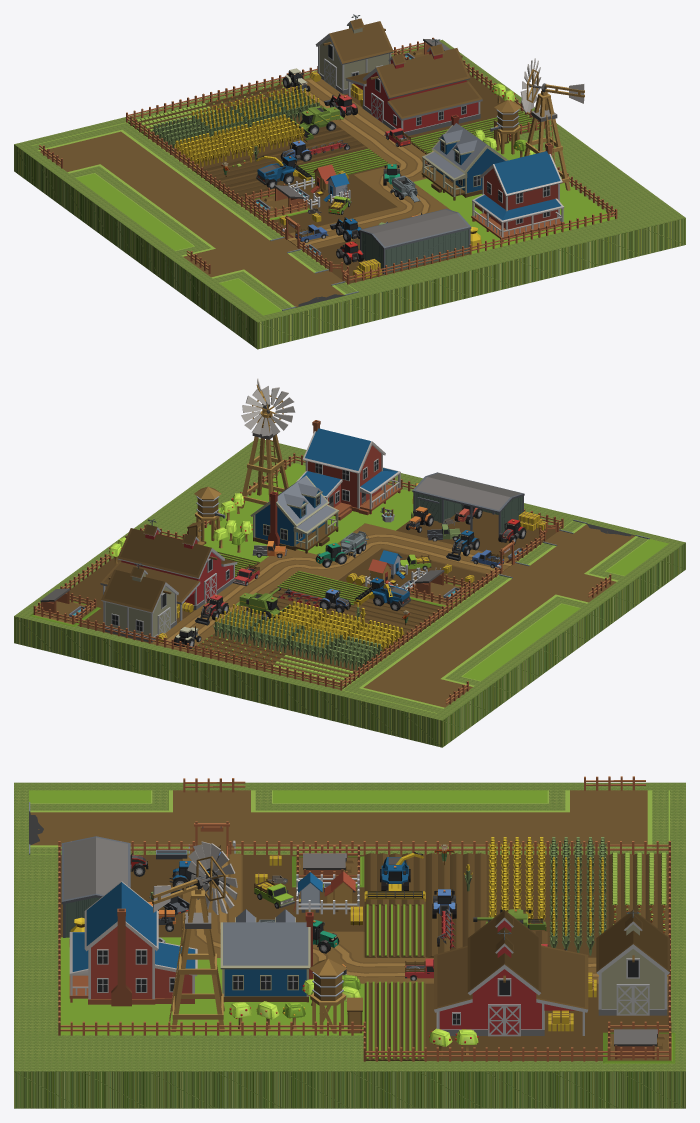
The model's file is homestead.glb.
3 renders of one model, top to bottom at view 1: azimuth 30°, elevation 25°; view 2: azimuth 150°, elevation 25°; view 3: azimuth 270°, elevation 25°, orthographic. The views are drawn at different scales.
Parts seen in each view (by area): view 1: Plane, Building_Barn_Big_01, Building_Farm_House_03, Building_Shed_01, Building_Cottage_03, road_Dirt_Corner, Building_Barn_Small_03, Env_Grass, road_Dirt_Straight, road_Dirt_Intersection, Env_Dirt, road_Dirt_Straight_2 (+33 smaller); view 2: Plane, Building_Farm_House_03, Building_Barn_Big_01, Building_Cottage_03, Building_Barn_Small_03, Building_Shed_01, road_Dirt_Corner, Env_Grass, road_Dirt_Straight, road_Dirt_Intersection, road_Dirt_Straight_2, Env_Dirt_2 (+37 smaller); view 3: Plane, Building_Barn_Big_01, Building_Farm_House_03, Env_Grass, Building_Cottage_03, Building_Barn_Small_03, road_Dirt_Corner, Env_Dirt_1, road_Dirt_Intersection, Env_Dirt_Plough, road_Dirt_Straight, Building_Shed_01 (+43 smaller).
Part boxes in pixels (x1,y1,x2,y2): Plane: (14, 39, 685, 349); Building_Barn_Big_01: (345, 39, 482, 135); Building_Farm_House_03: (471, 142, 564, 241); Building_Shed_01: (359, 208, 471, 273); Building_Cottage_03: (421, 114, 508, 200); road_Dirt_Corner: (31, 122, 181, 181); Building_Barn_Small_03: (315, 14, 393, 94); Env_Grass: (413, 140, 614, 246); road_Dirt_Straight: (144, 163, 280, 244); road_Dirt_Intersection: (175, 229, 286, 286); Env_Dirt: (238, 175, 395, 234); road_Dirt_Straight_2: (106, 172, 220, 237); Plane: (14, 438, 685, 747); Building_Farm_House_03: (296, 420, 401, 520); Building_Barn_Big_01: (100, 519, 237, 620); Building_Cottage_03: (250, 475, 339, 553); Building_Barn_Small_03: (101, 563, 178, 642); Building_Shed_01: (412, 472, 524, 536); road_Dirt_Corner: (342, 650, 480, 713); Env_Grass: (203, 463, 408, 562); road_Dirt_Straight: (397, 577, 533, 658); road_Dirt_Intersection: (512, 554, 624, 611); road_Dirt_Straight_2: (435, 602, 550, 668); Env_Dirt_2: (396, 510, 561, 559); Plane: (14, 782, 685, 1108); Building_Barn_Big_01: (434, 910, 588, 1036); Building_Farm_House_03: (69, 881, 197, 1006); Env_Grass: (60, 958, 364, 1035); Building_Cottage_03: (220, 909, 313, 1002); Building_Barn_Small_03: (596, 909, 669, 1015); road_Dirt_Corner: (517, 790, 669, 854); Env_Dirt_1: (425, 983, 668, 1060); road_Dirt_Intersection: (120, 790, 303, 828); Env_Dirt_Plough: (425, 853, 486, 957); road_Dirt_Straight: (242, 829, 517, 854); Building_Shed_01: (61, 836, 130, 937).
Size of the model in its own units: 112 by 37.86 by 110.
3 materials, 3 textured.
